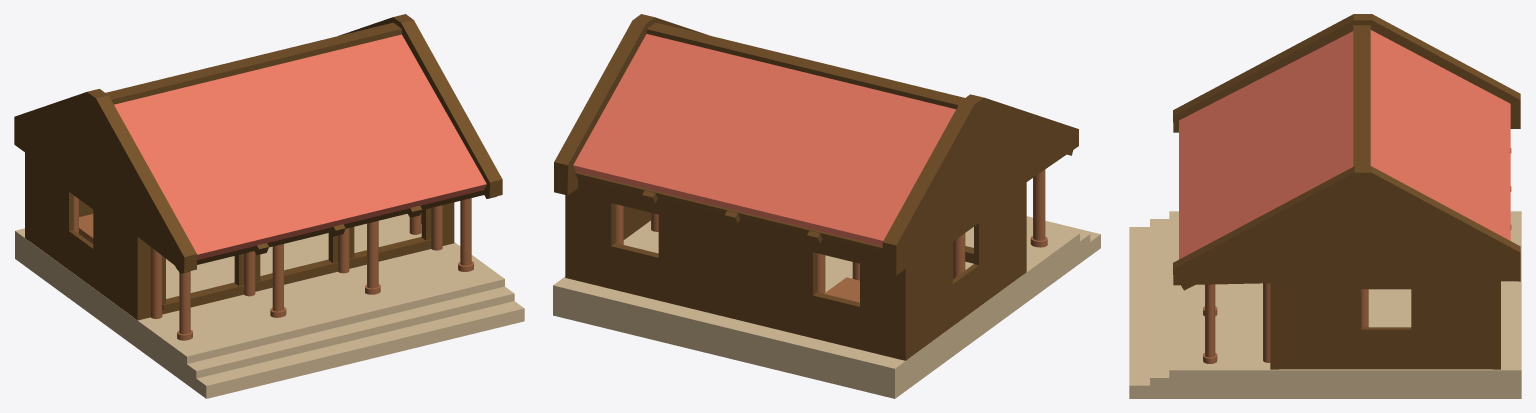
The model's file is House3.fbx.
3 views of the same model, side by side, from view 1: azimuth 30°, elevation 25°; view 2: azimuth 150°, elevation 25°; view 3: azimuth 270°, elevation 25° (orthographic). The views are drawn at different scales.
Parts seen in each view (by area): view 1: Cube.032, Steps.003, SideHouse, FrontHouse3, Front13, Pillars13, Roof3Support, BackHouse3; view 2: Cube.032, BackHouse3, Steps.003, SideHouse, Roof3Support, Front13, Pillars33, Pillars43, SideHouse.001, FrontHouse3, Cube.009; view 3: Cube.032, Steps.003, SideHouse.001, Front13, BackHouse3, FrontHouse3, Pillars13.
Part boxes in pixels (bbox=[...]): Cube.032: bbox=[14, 14, 502, 272]; Steps.003: bbox=[15, 214, 524, 398]; SideHouse: bbox=[29, 156, 142, 319]; FrontHouse3: bbox=[133, 202, 454, 320]; Front13: bbox=[177, 198, 473, 340]; Pillars13: bbox=[150, 205, 442, 318]; Roof3Support: bbox=[175, 190, 496, 273]; BackHouse3: bbox=[25, 152, 93, 240]; Cube.032: bbox=[554, 14, 1078, 275]; BackHouse3: bbox=[565, 179, 909, 360]; Steps.003: bbox=[553, 216, 1100, 398]; SideHouse: bbox=[910, 185, 1022, 357]; Roof3Support: bbox=[575, 150, 1073, 253]; Front13: bbox=[1030, 169, 1047, 247]; Pillars33: bbox=[651, 213, 965, 280]; Pillars43: bbox=[615, 204, 825, 293]; SideHouse.001: bbox=[623, 206, 650, 239]; FrontHouse3: bbox=[965, 182, 1026, 275]; Cube.009: bbox=[824, 277, 859, 302]; Cube.032: bbox=[1173, 14, 1520, 285]; Steps.003: bbox=[1129, 211, 1521, 398]; SideHouse.001: bbox=[1279, 281, 1492, 369]; Front13: bbox=[1203, 284, 1217, 363]; BackHouse3: bbox=[1492, 281, 1500, 369]; FrontHouse3: bbox=[1270, 283, 1278, 369]; Pillars13: bbox=[1263, 283, 1270, 362].
Bounding box in the file's own units: 925 × 889 × 589.
